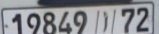1: (10, 12, 23, 34)
2: (137, 5, 149, 34)
4: (58, 10, 72, 34)
7: (120, 7, 136, 34)
8: (42, 10, 57, 34)
9: (73, 10, 88, 34), (26, 12, 40, 34)
a: (102, 8, 109, 33)
